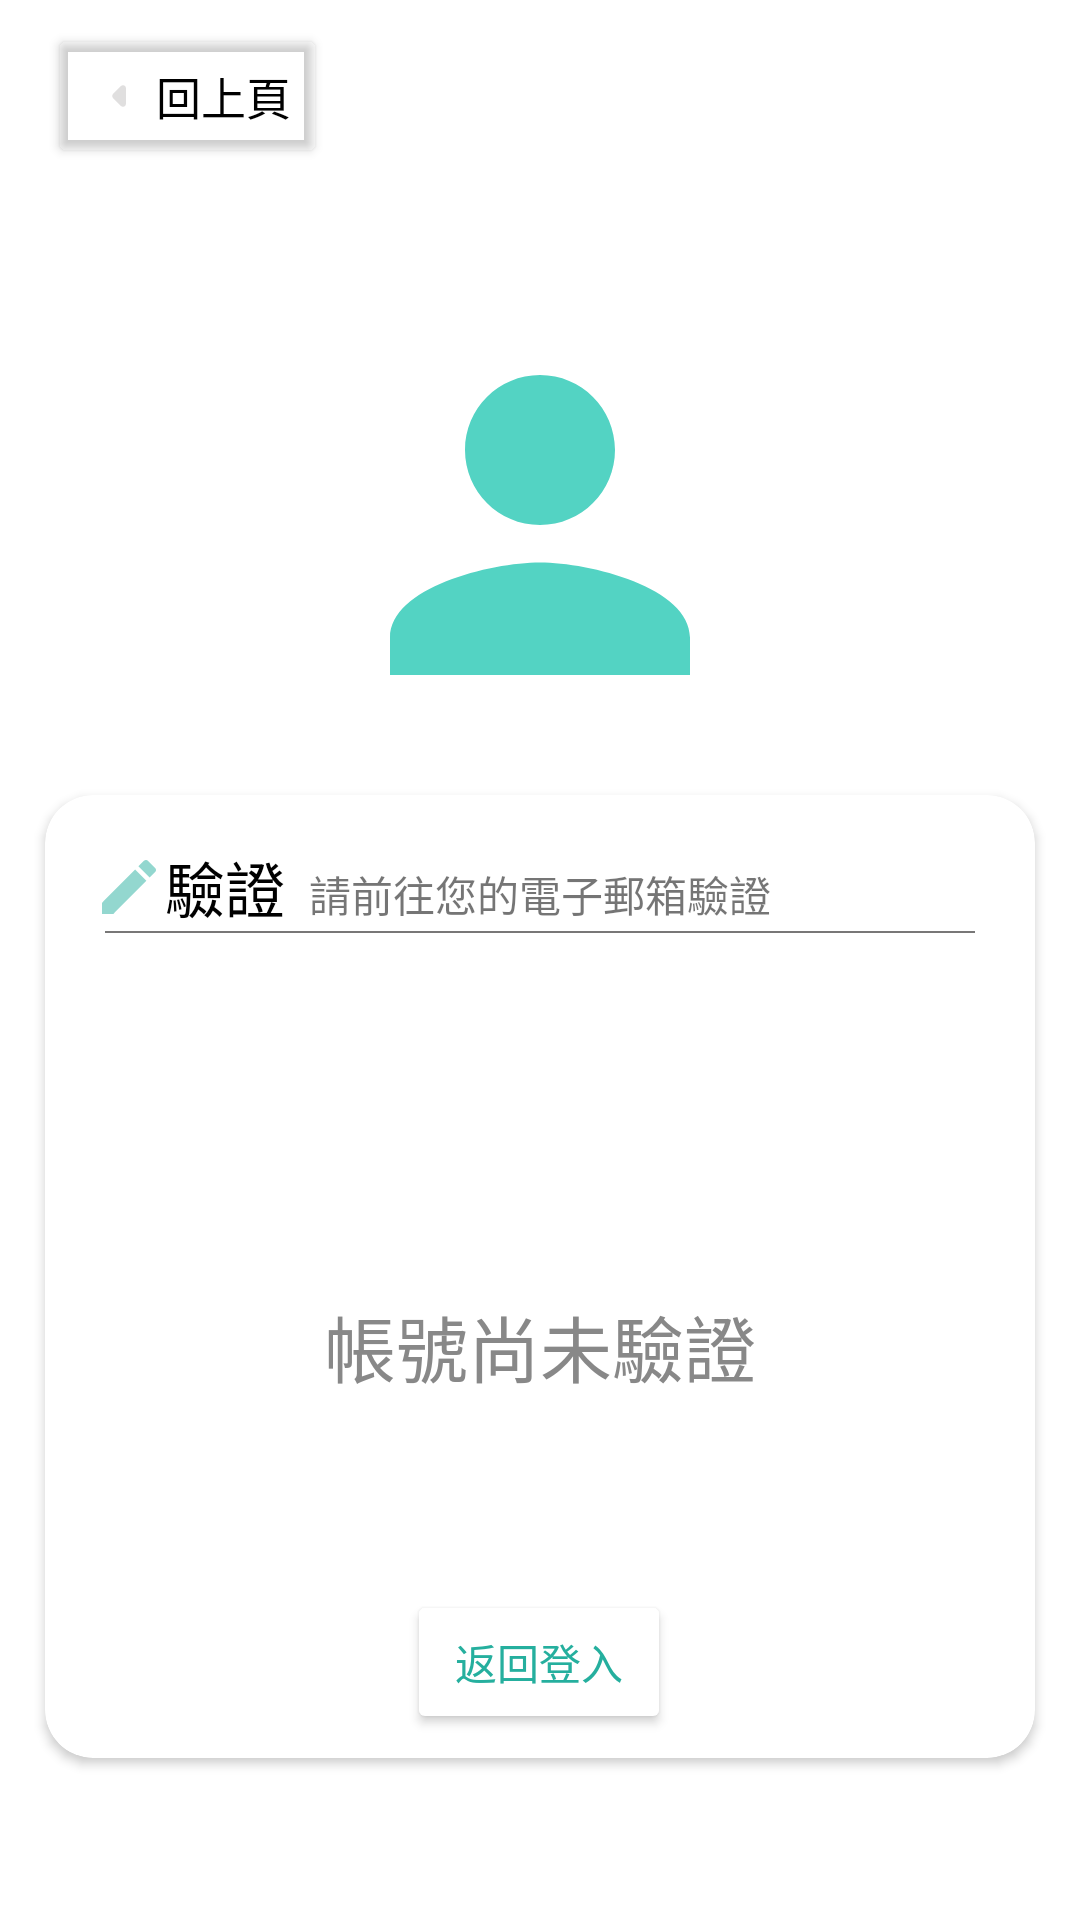

Icons on this 1080x1920 Android screen, each with the point to tap as point (x, y):
person: point (540, 525)
